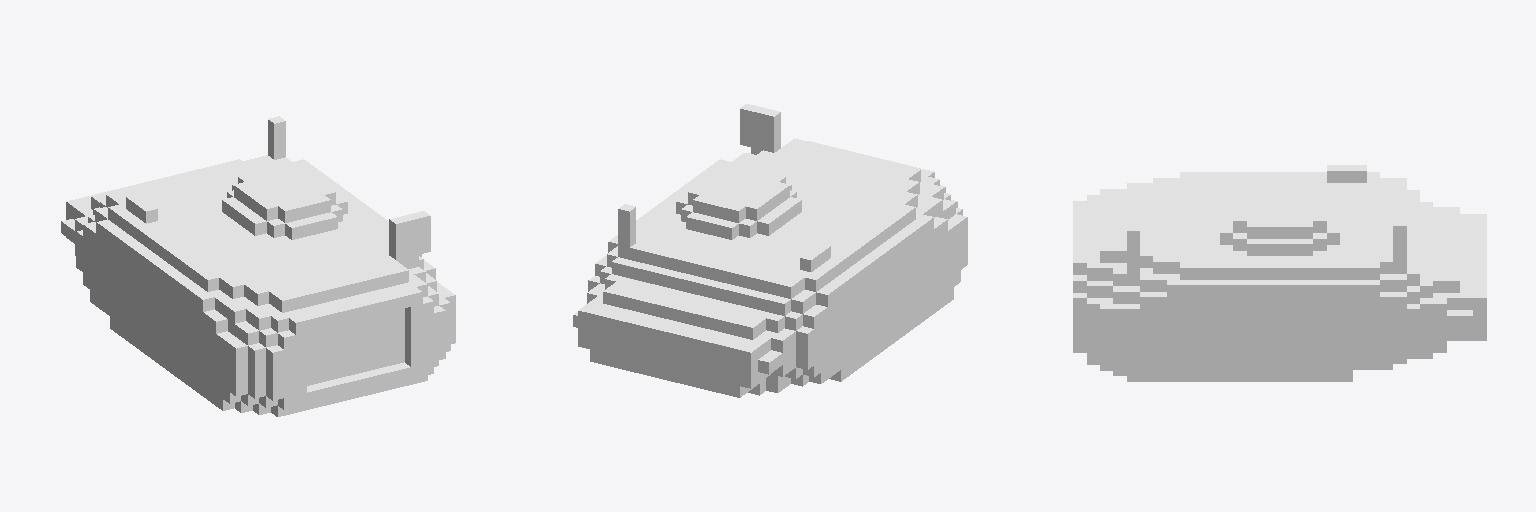
The model's file is head2.obj.
The picture shows the model from 3 angles: view 1: azimuth 30°, elevation 25°; view 2: azimuth 150°, elevation 25°; view 3: azimuth 270°, elevation 25°; orthographic projection.
Parts seen in each view (by area): view 1: object 1; view 2: object 1; view 3: object 1.
Part boxes in pixels (x1,y1,x2,y2): object 1: (61,116,455,416); object 1: (573,104,967,397); object 1: (1073,165,1486,381).
Bounding box in the file's own units: 1.9 × 1.2 × 3.1.